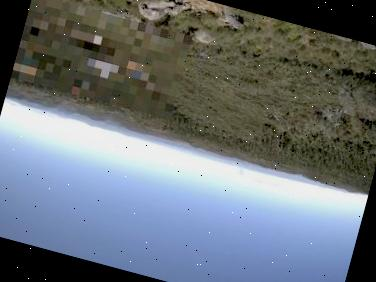smoke: (232, 161, 252, 181)
